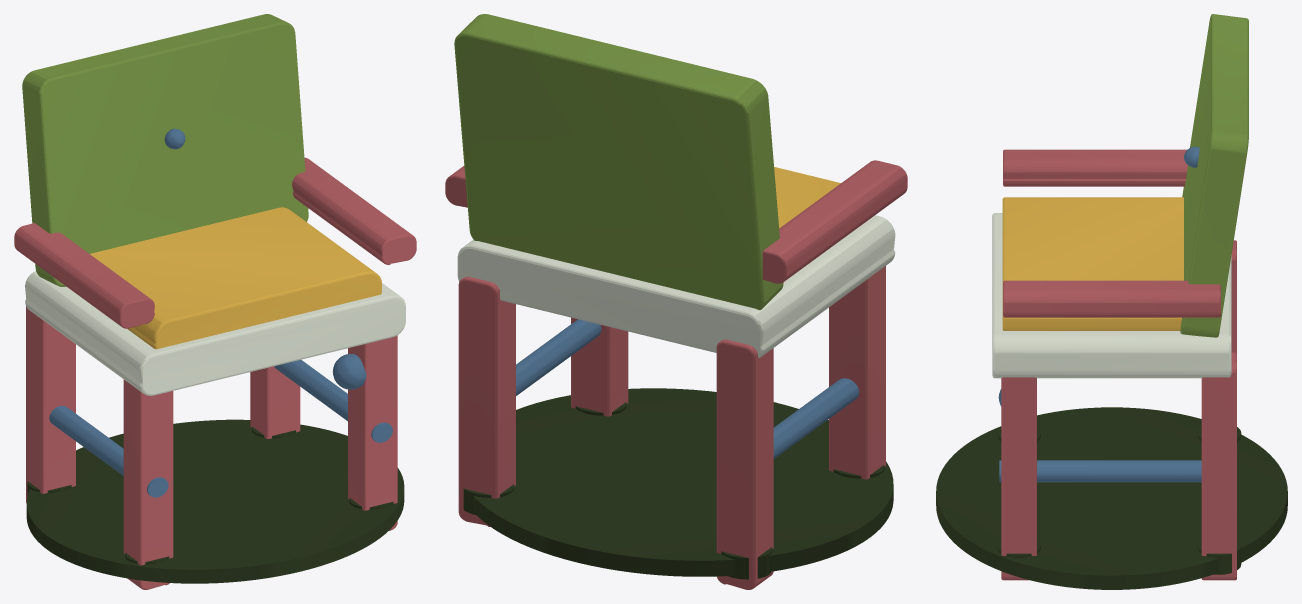
Rendered from 0943_农业科技图鉴_现代化养鸡场.glb.
3 renders of one model, left to right at view 1: azimuth 30°, elevation 25°; view 2: azimuth 150°, elevation 25°; view 3: azimuth 270°, elevation 25°, orthographic. The views are drawn at different scales.
Visible parts, largest first — view 1: card_0943; view 2: card_0943; view 3: card_0943.
Part boxes in pixels (bbox=[...]): card_0943: bbox=[14, 14, 416, 589]; card_0943: bbox=[445, 14, 907, 589]; card_0943: bbox=[936, 14, 1287, 589].
Bounding box in the file's own units: 0.8095 × 1 × 0.7148.
